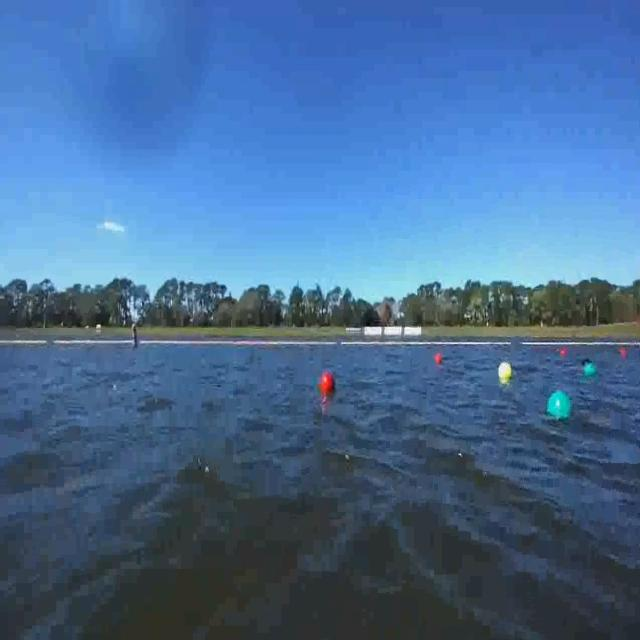green-buoy: (548, 393, 572, 422), (585, 362, 598, 377)
red-buoy: (323, 372, 337, 392), (435, 353, 442, 364), (622, 349, 628, 358), (560, 349, 567, 355)
yellow-buoy: (499, 361, 512, 379)
